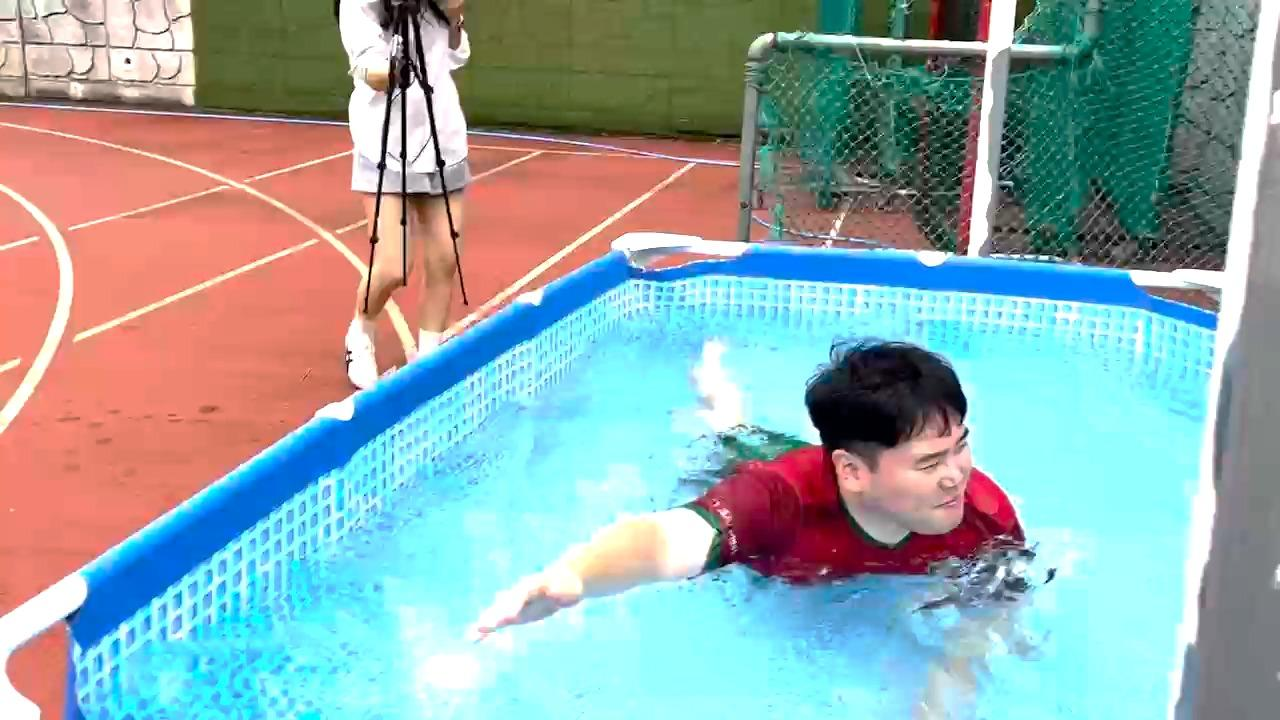Swimming: (476, 262, 1060, 709)
